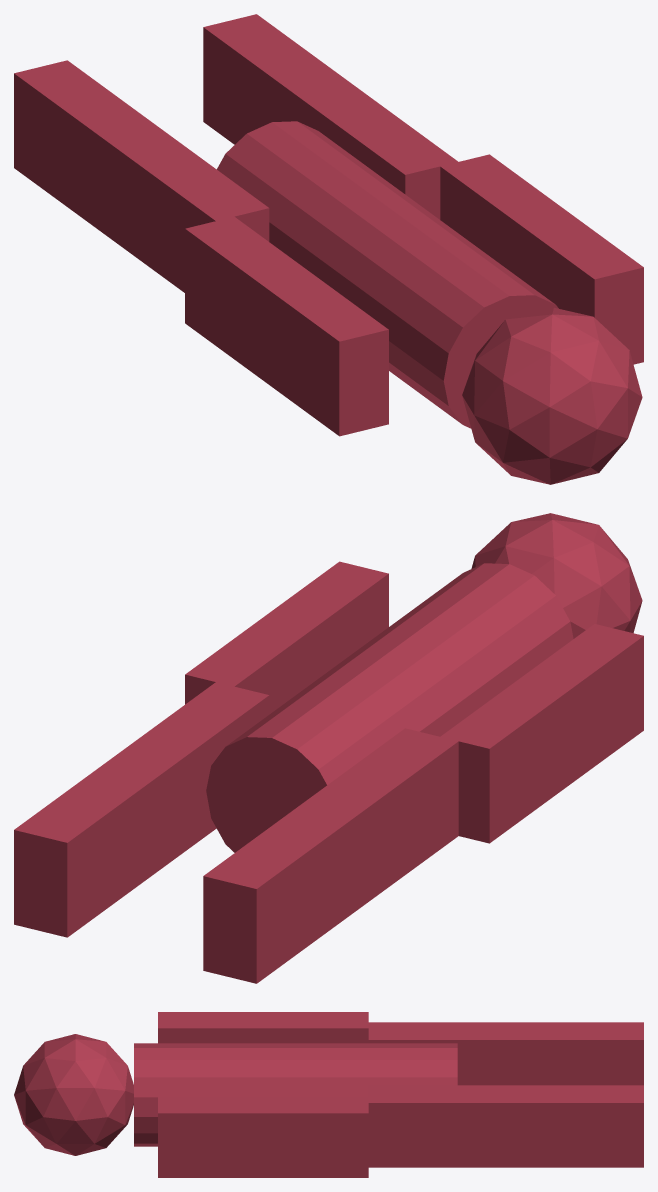
Rendered from armor_stand_v01.glb.
The picture shows the model from 3 angles, top to bottom: view 1: azimuth 30°, elevation 25°; view 2: azimuth 150°, elevation 25°; view 3: azimuth 270°, elevation 25°; orthographic projection. The views are drawn at different scales.
Parts seen in each view (by area): view 1: cylinder_0, box_2, box_4, sphere_1, box_3, box_5; view 2: cylinder_0, box_2, box_3, box_4, box_5, sphere_1; view 3: box_3, cylinder_0, box_5, box_2, sphere_1, box_4.
Boxes of the visible parts, box(x1,y1,x2,y2) form: cylinder_0: box(217, 121, 558, 428); box_2: box(14, 60, 269, 292); box_4: box(185, 216, 388, 436); sphere_1: box(462, 307, 642, 484); box_3: box(203, 14, 458, 219); box_5: box(440, 154, 643, 364); cylinder_0: box(206, 563, 573, 852); box_2: box(203, 728, 458, 983); box_3: box(14, 682, 269, 937); box_4: box(440, 624, 643, 843); box_5: box(185, 561, 388, 714); sphere_1: box(471, 513, 642, 638); box_3: box(368, 1085, 643, 1167); cylinder_0: box(134, 1043, 457, 1146); box_5: box(158, 1097, 368, 1177); box_2: box(368, 1022, 643, 1085); sphere_1: box(14, 1034, 133, 1155); box_4: box(158, 1012, 368, 1043).
Size of the model in its own units: 0.74 by 0.38 by 1.95.
